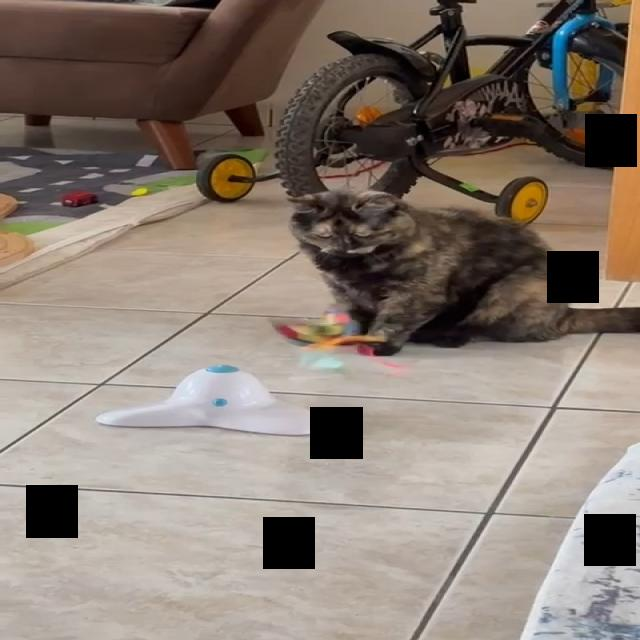authorized: (285, 186, 639, 356)
